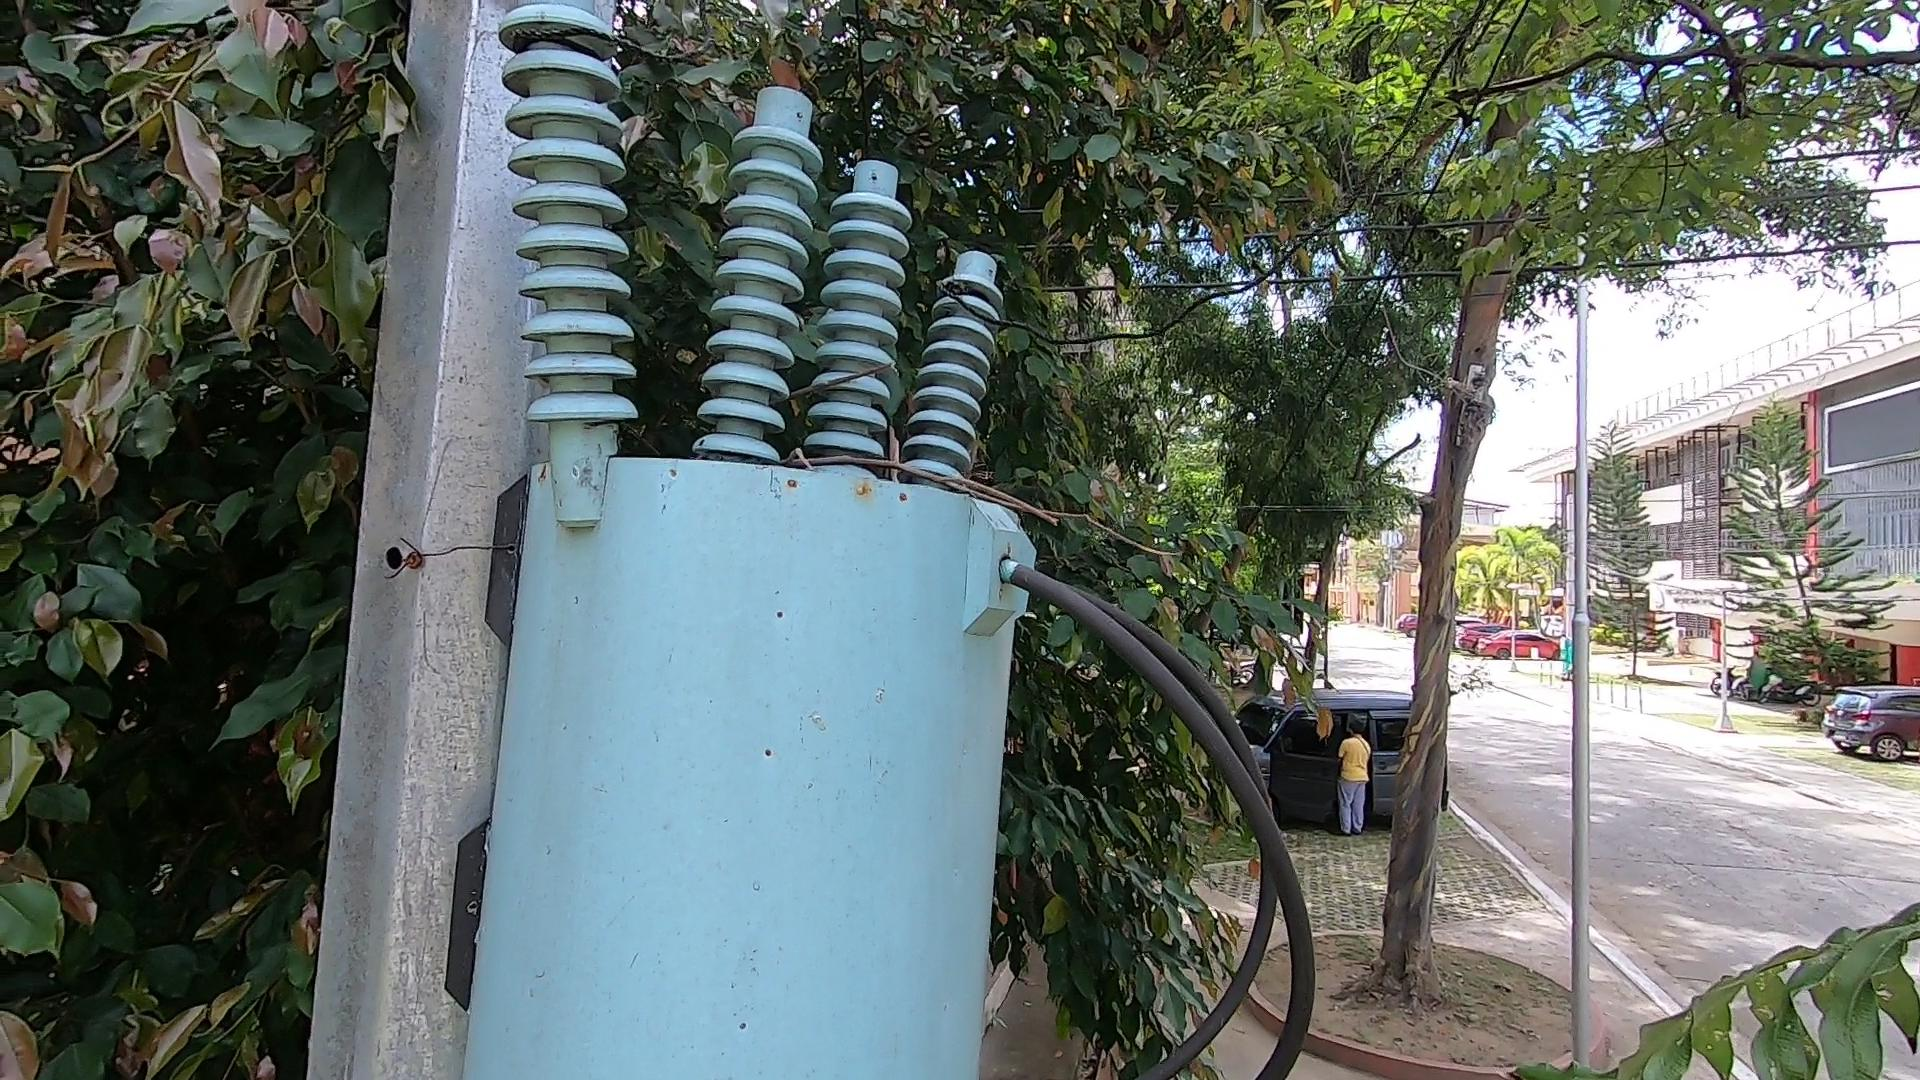tree branch: (713, 375, 1185, 603)
